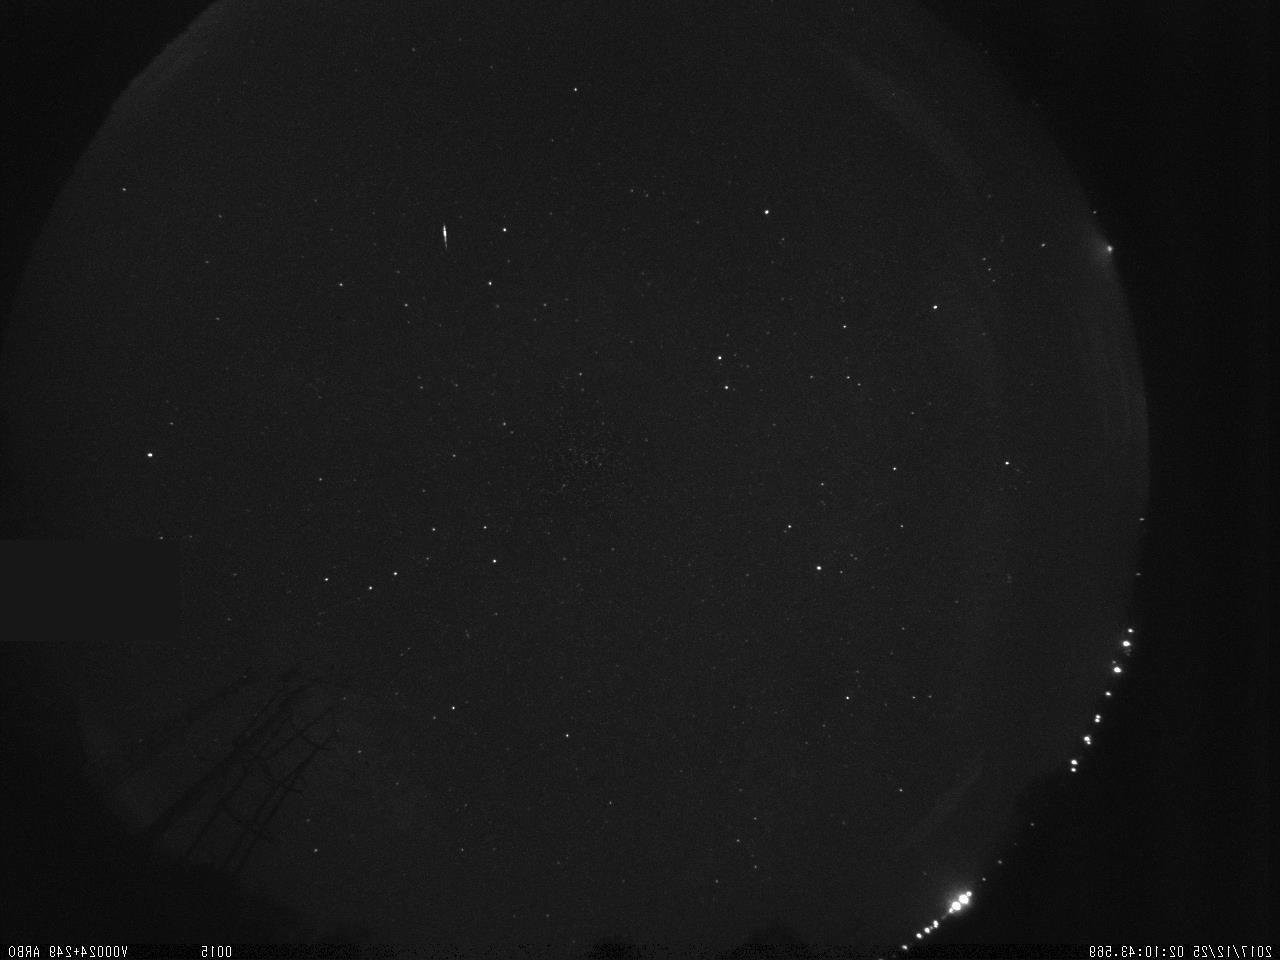meteor: (429, 206, 455, 266)
